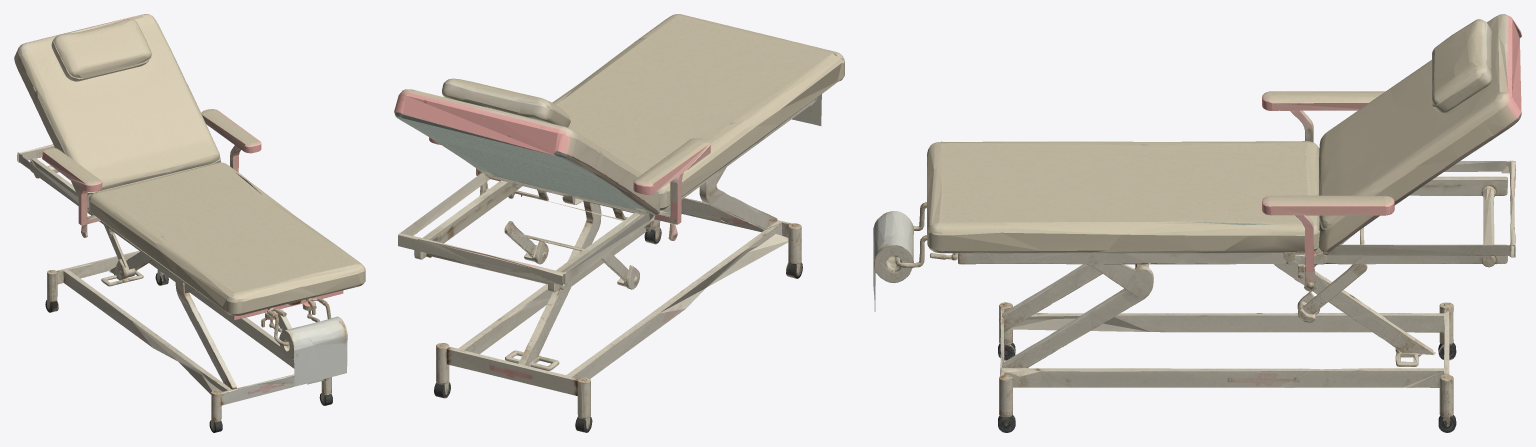
File: lettino_B.glb
3 views of the same model, side by side, from view 1: azimuth 30°, elevation 25°; view 2: azimuth 150°, elevation 25°; view 3: azimuth 270°, elevation 25° (orthographic). The views are drawn at different scales.
Size of the model in its own units: 0.8013 by 1.14 by 1.9.
1 material, 1 textured.
